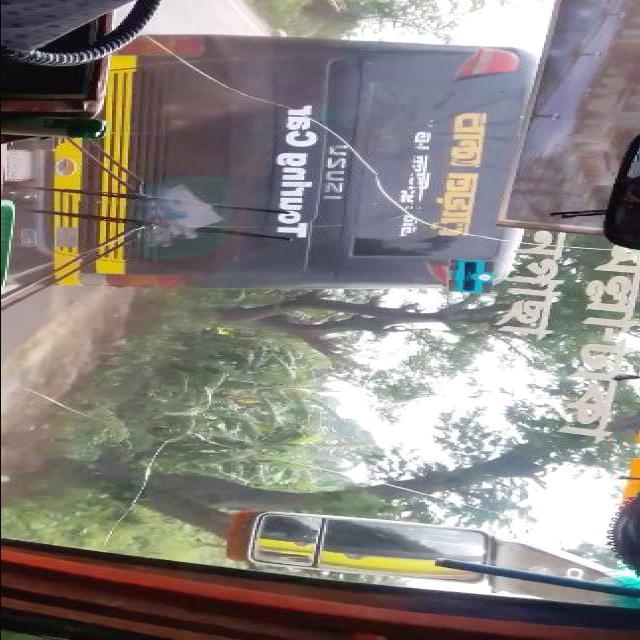bus: (11, 32, 512, 290)
